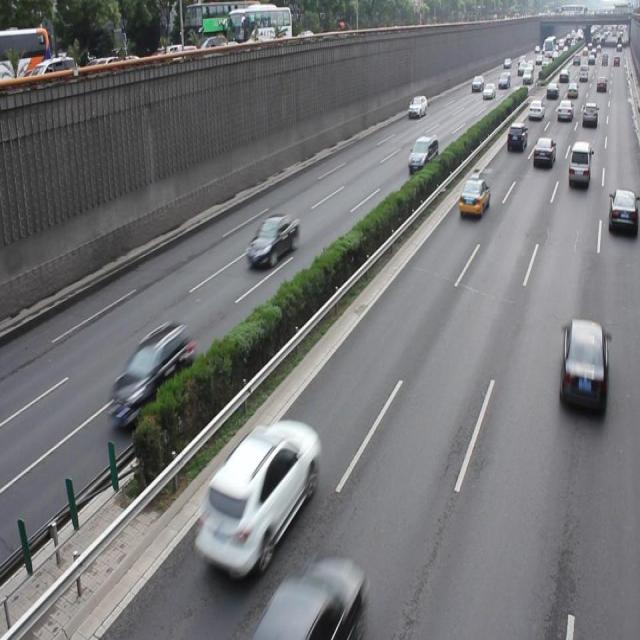car: (194, 420, 320, 578), (107, 319, 194, 429), (260, 553, 366, 640), (558, 317, 606, 413), (245, 213, 300, 267), (605, 187, 640, 235), (456, 176, 488, 220)
truck: (407, 133, 438, 174), (566, 141, 590, 190)
